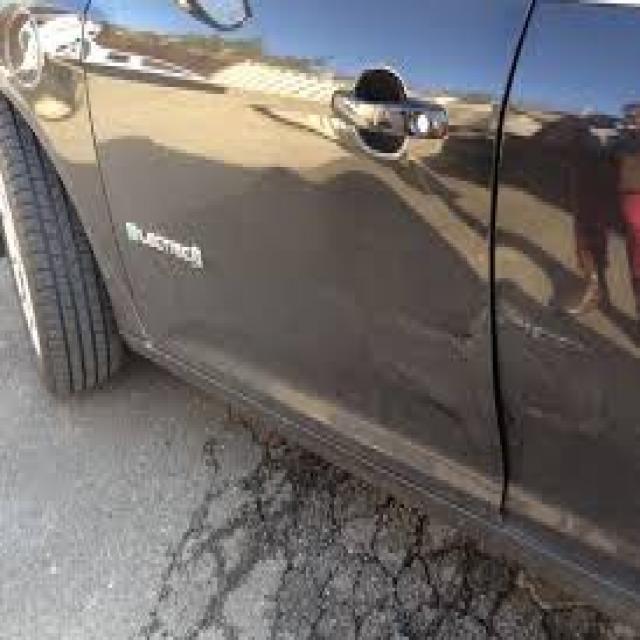minor: (454, 238, 612, 438)
